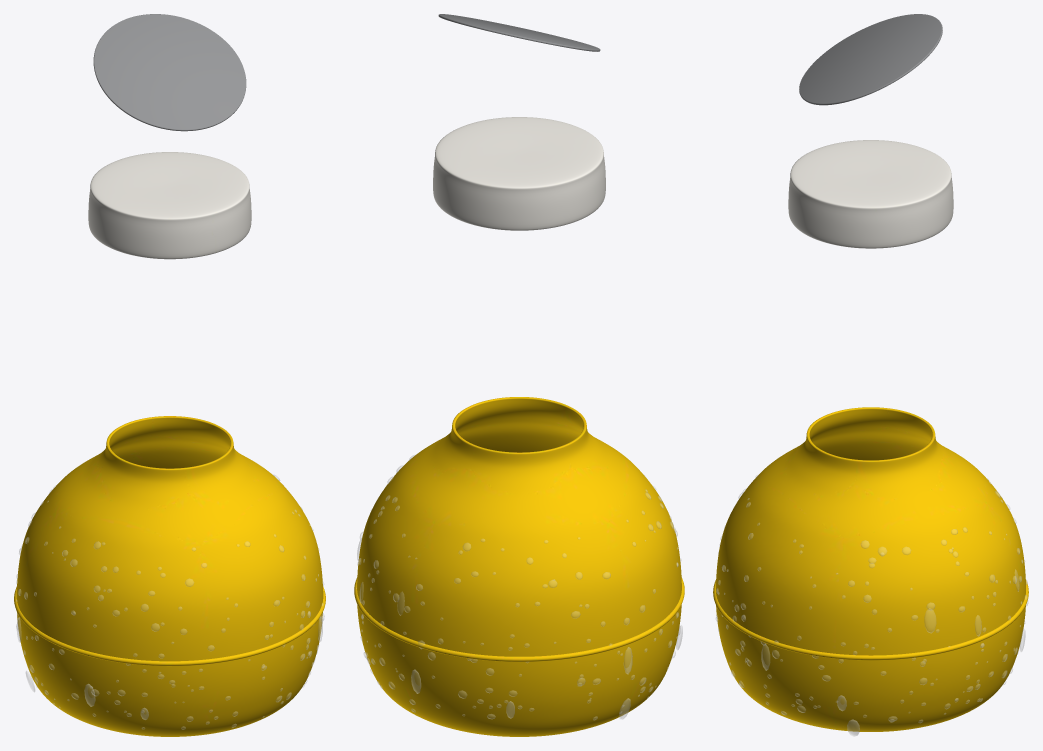
The model's file is banana-milk.glb.
3 views of the same model, side by side, from view 1: azimuth 30°, elevation 25°; view 2: azimuth 150°, elevation 25°; view 3: azimuth 270°, elevation 25° (orthographic). The views are drawn at different scales.
Parts seen in each view (by area): view 1: body, cap, foil, droplets, ridge; view 2: body, cap, droplets, ridge, foil; view 3: body, cap, foil, droplets, ridge.
Boxes of the visible parts, left/top/right/bottom form: body: left=16, top=416, right=323, bottom=736; cap: left=88, top=152, right=251, bottom=259; foil: left=93, top=14, right=246, bottom=131; droplets: left=16, top=473, right=324, bottom=729; ridge: left=14, top=586, right=325, bottom=666; body: left=357, top=397, right=681, bottom=736; cap: left=433, top=117, right=605, bottom=230; droplets: left=356, top=454, right=682, bottom=719; ridge: left=354, top=577, right=684, bottom=661; foil: left=438, top=14, right=600, bottom=51; body: left=716, top=407, right=1025, bottom=731; cap: left=788, top=140, right=953, bottom=248; foil: left=799, top=14, right=942, bottom=105; droplets: left=716, top=475, right=1027, bottom=736; ridge: left=713, top=579, right=1028, bottom=660.
Bounding box in the file's own units: 1.8 × 4.16 × 1.8.
5 materials, 4 textured.
